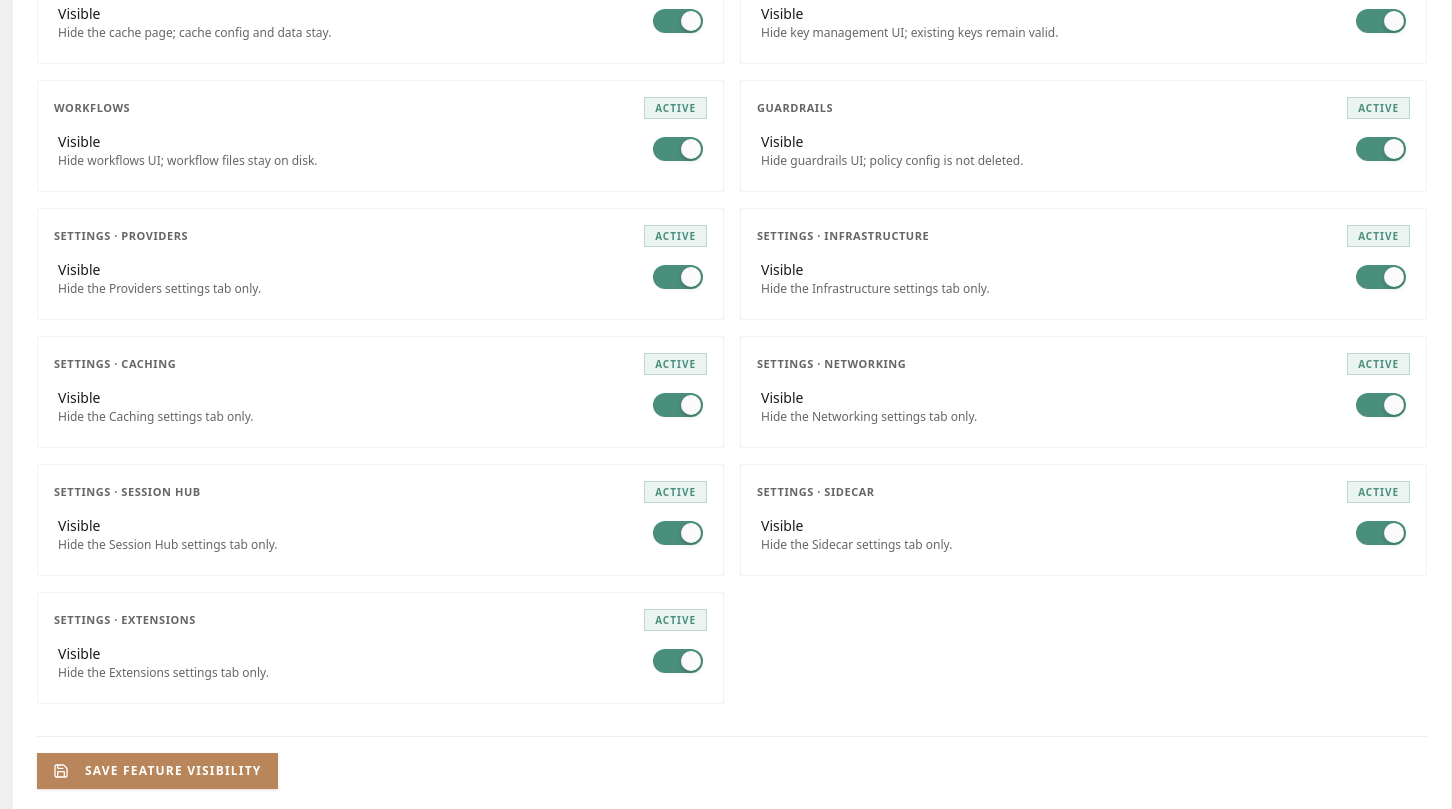
Test: Feature visibility toggle › persists a toggle immediately so a background refetch keeps it
This screenshot has width=1452, height=809.
(page scrolled)
Toggle alone — no Save click — must persist right away.
What coordinates should you click on to do the following:
click the switch named "Hide Settings · Caching"
I would click on:
 (678, 405)
Its box is left=653, top=393, right=703, bottom=417.
(page scrolled)
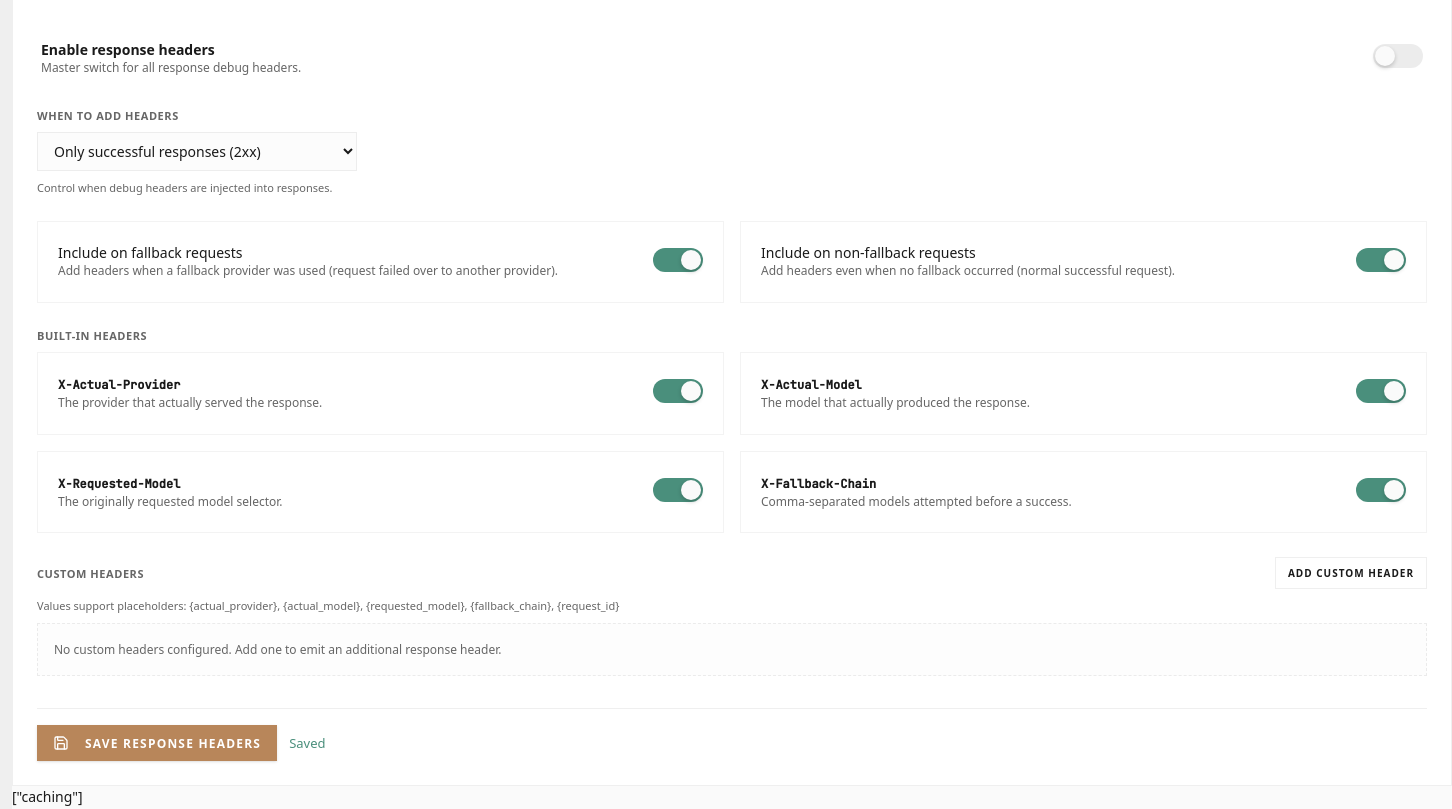
expect the text with test id "hf" shows "caching": met, box left=12, top=787, right=83, bottom=806
